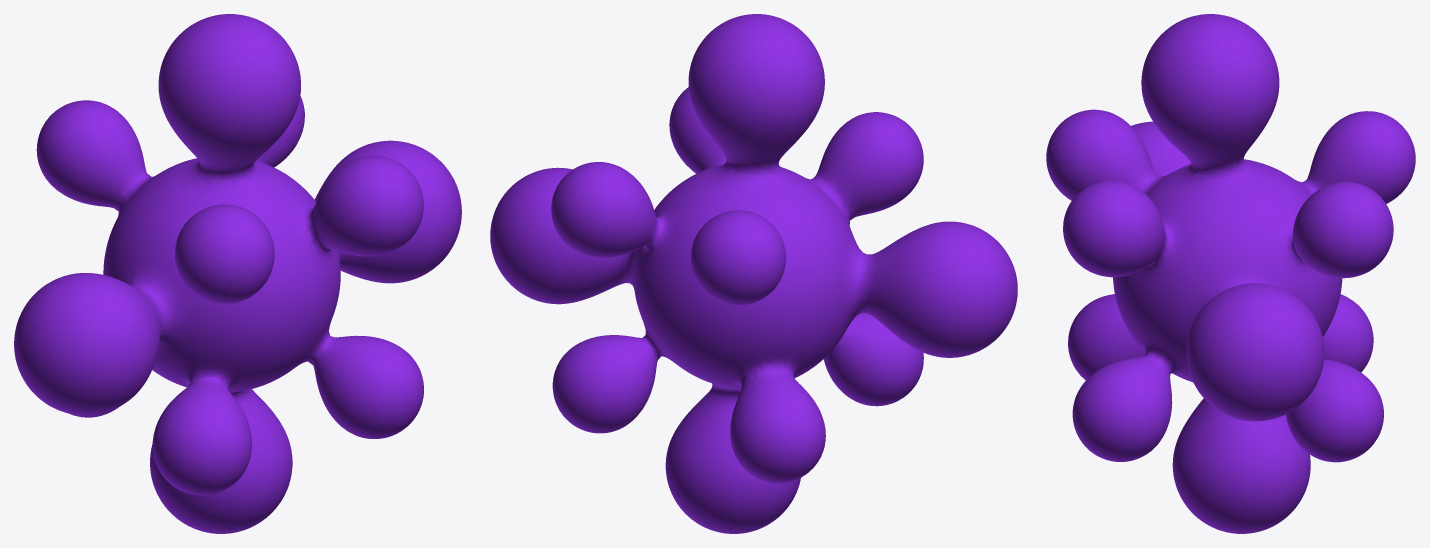
File: Virus04.fbx
3 renders of one model, left to right at view 1: azimuth 30°, elevation 25°; view 2: azimuth 150°, elevation 25°; view 3: azimuth 270°, elevation 25°, orthographic. The views are drawn at different scales.
Visible parts, largest first — view 1: Mball.010; view 2: Mball.010; view 3: Mball.010.
Boxes of the visible parts, bbox=[...] form: Mball.010: bbox=[14, 14, 461, 533]; Mball.010: bbox=[490, 14, 1017, 533]; Mball.010: bbox=[1046, 14, 1415, 533].
Size of the model in its own units: 20.95 by 21.67 by 14.41.
